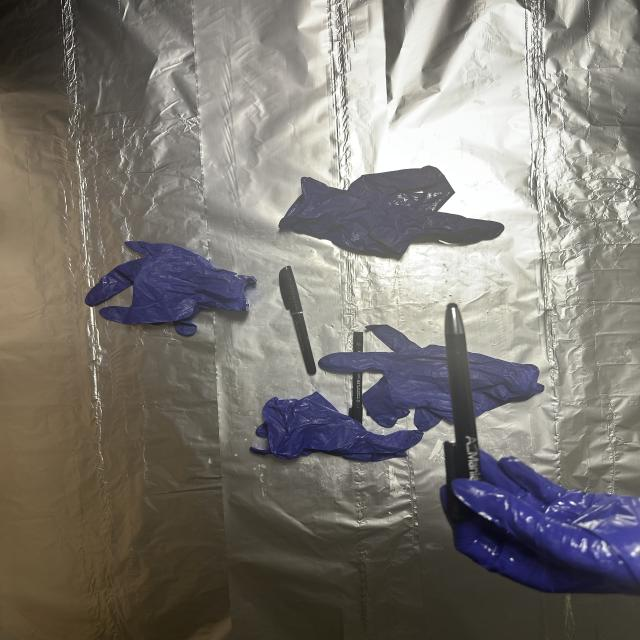gloves_contaminated: (440, 450, 640, 595)
